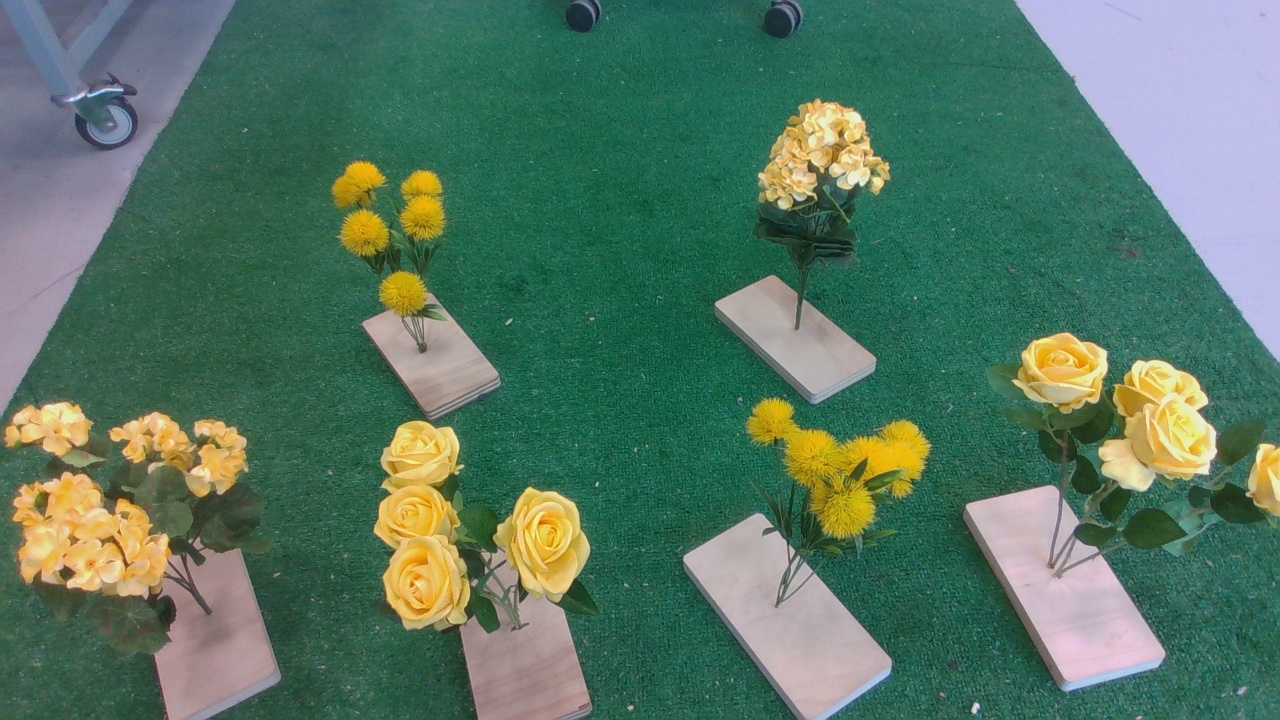dandelion: (728, 396, 941, 573), (319, 153, 467, 334)
geranium: (9, 398, 277, 668), (750, 99, 900, 277)
rose: (983, 330, 1280, 564), (369, 418, 614, 641)
